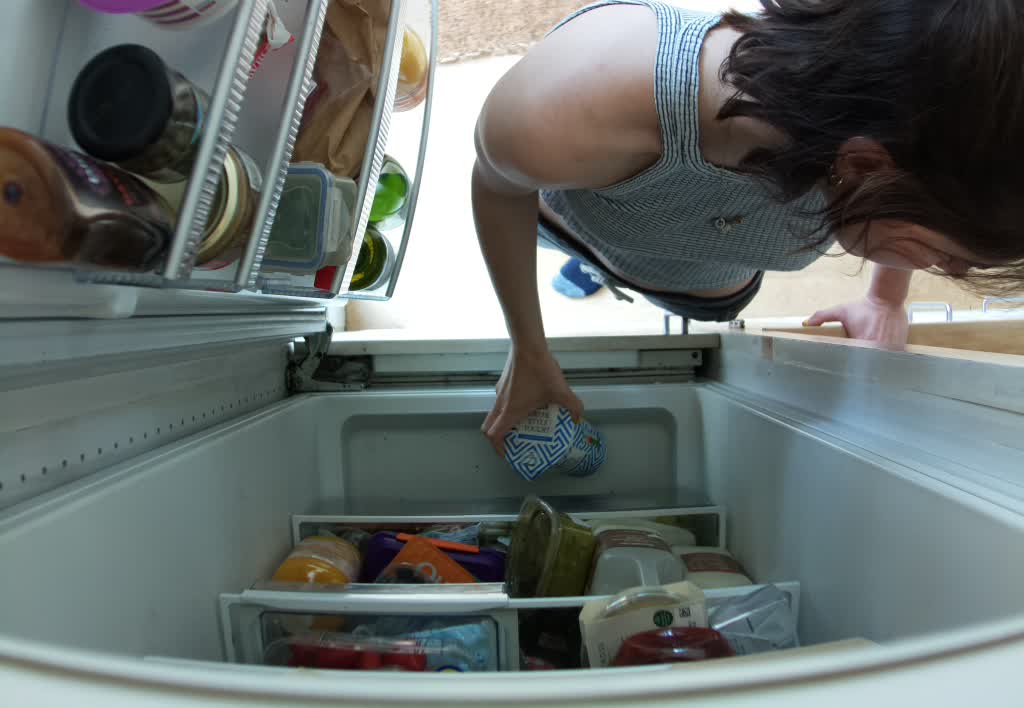yogurt: (494, 391, 610, 482)
